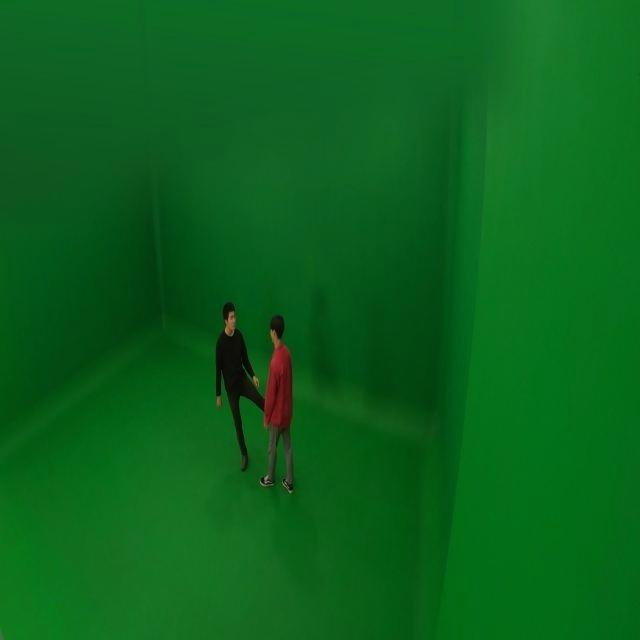fight: (212, 300, 300, 492)
